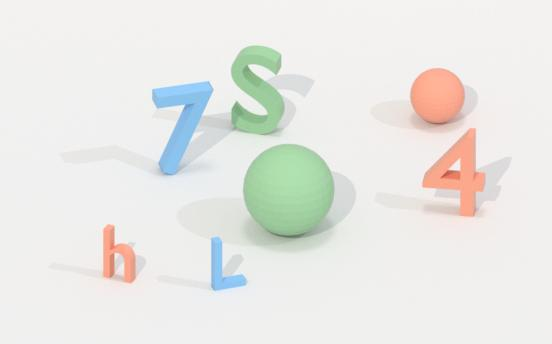4: (419, 126, 492, 217)
7: (144, 80, 216, 178)
cau: (235, 143, 340, 236), (406, 66, 469, 128)
h: (100, 221, 139, 284)
l: (206, 233, 253, 293)
s: (225, 45, 288, 136)
